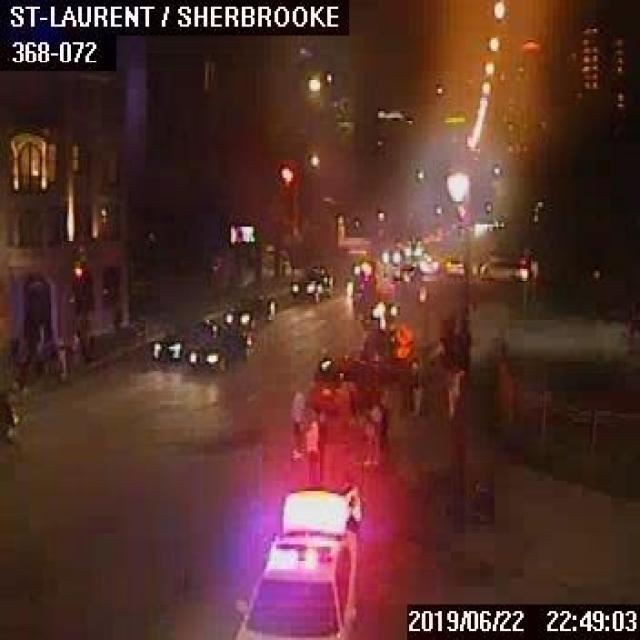pedestrian: (360, 398, 388, 469), (336, 471, 362, 533), (302, 411, 320, 476), (405, 351, 420, 416), (287, 389, 300, 455)
vehicle: (231, 484, 360, 638), (307, 354, 377, 413), (358, 326, 411, 378), (223, 289, 276, 329), (186, 333, 239, 370), (153, 324, 195, 364), (289, 264, 333, 300), (478, 255, 529, 280), (0, 376, 18, 444), (350, 256, 373, 276), (417, 252, 437, 272), (381, 245, 402, 262), (443, 258, 462, 276), (492, 212, 509, 228)
